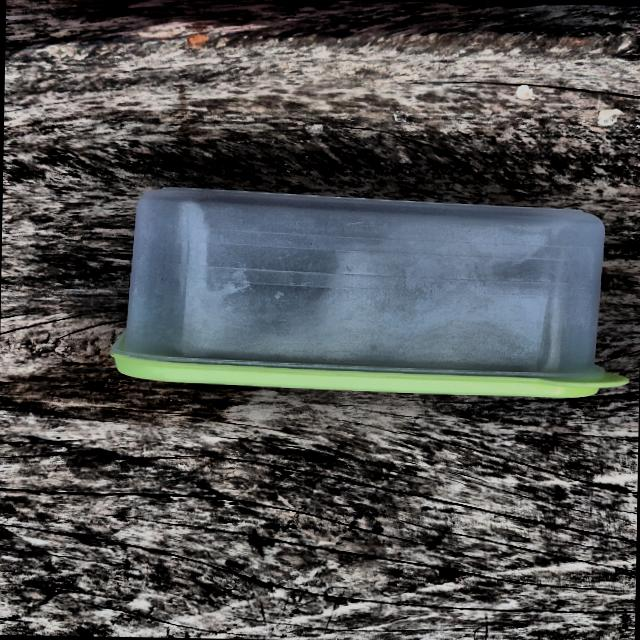plastic container: (93, 169, 640, 408)
